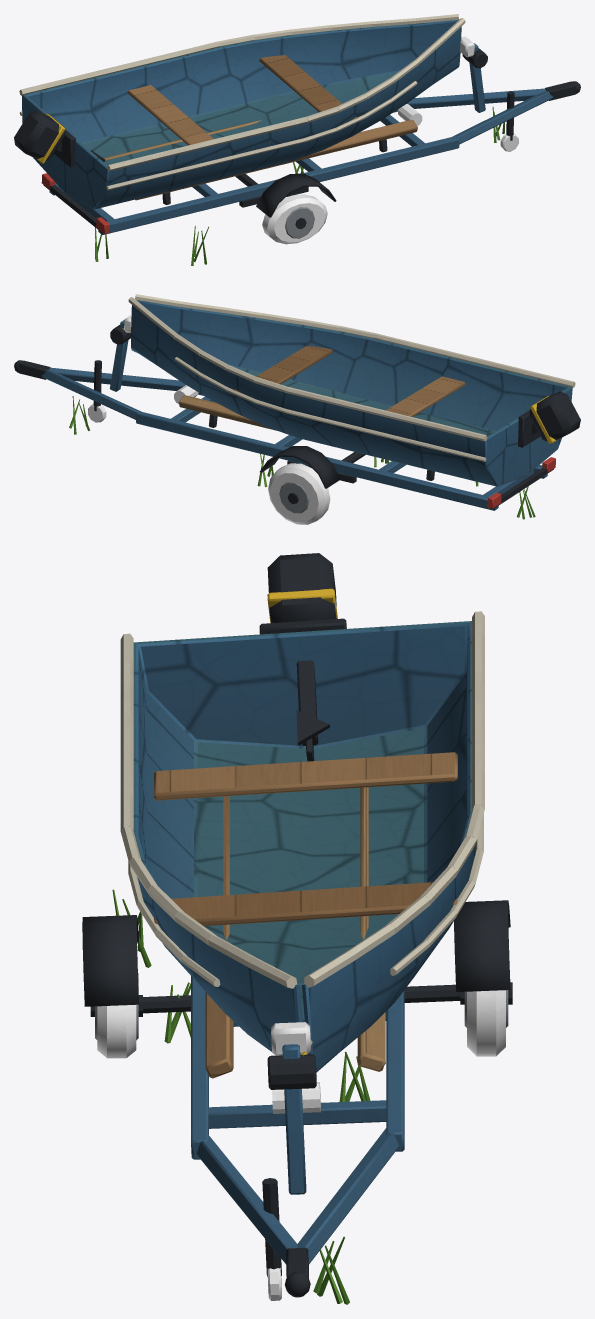
Rendered from boat_trailer.glb.
3 renders of one model, top to bottom at view 1: azimuth 30°, elevation 25°; view 2: azimuth 150°, elevation 25°; view 3: azimuth 270°, elevation 25°, orthographic. The views are drawn at different scales.
Visible parts, largest first — view 1: boat_trailer; view 2: boat_trailer; view 3: boat_trailer.
Part boxes in pixels (x1,y1,x2,y2): boat_trailer: (14,14,580,265); boat_trailer: (14,294,580,524); boat_trailer: (82,553,512,1304).
Size of the model in its own units: 5.95 by 1.51 by 1.98.
Materials: 18 (18 with a texture image).
